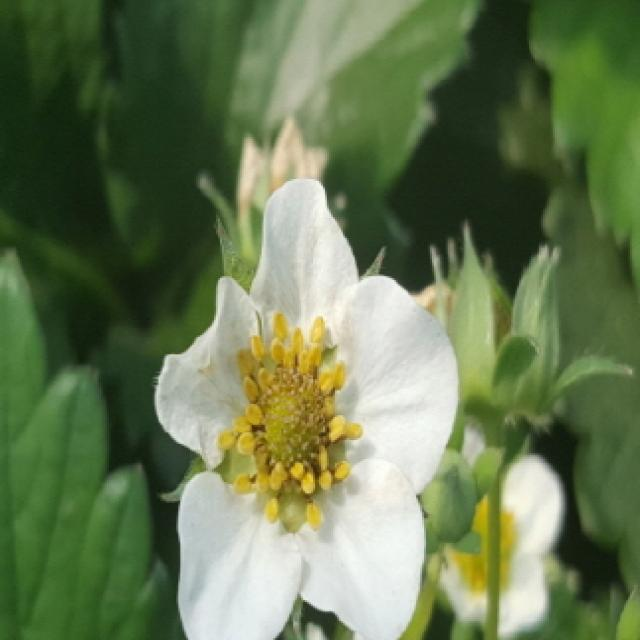Blossom Blight: (211, 305, 368, 537)
